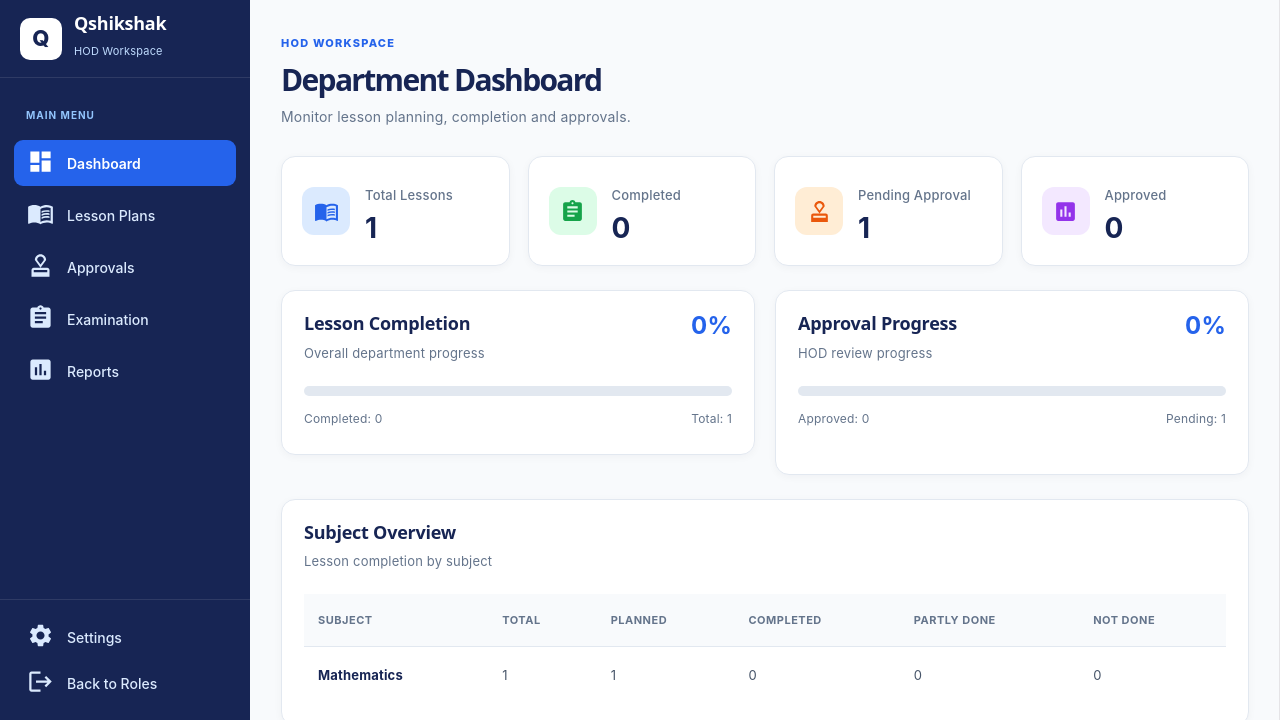
Test case: HOD can see the lesson plan created by the teacher
Click the button "Lesson Plans" at (125, 215), box [14,192,236,238]
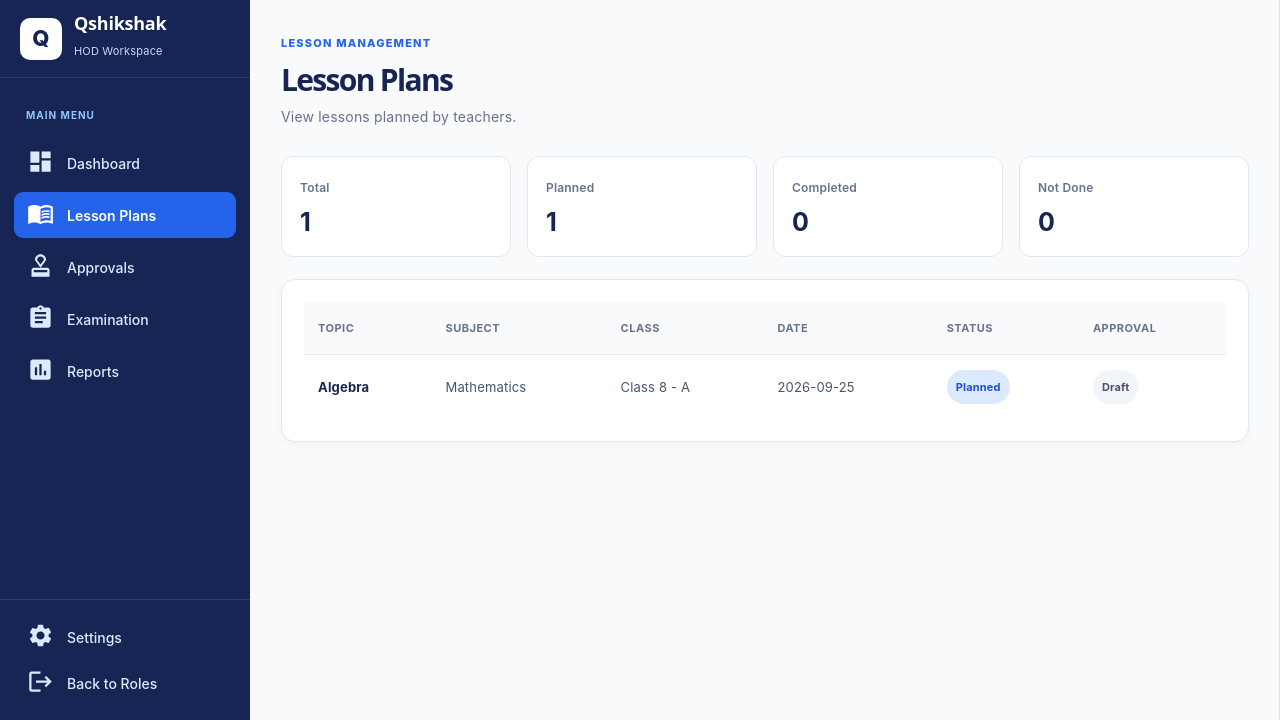
Check: the text "Algebra" is shown, box [318,379,369,395]
Check: the text "Mathematics" is shown, box [432,354,607,419]
Check: the text "Class 8 - A" is shown, box [606,354,763,419]
